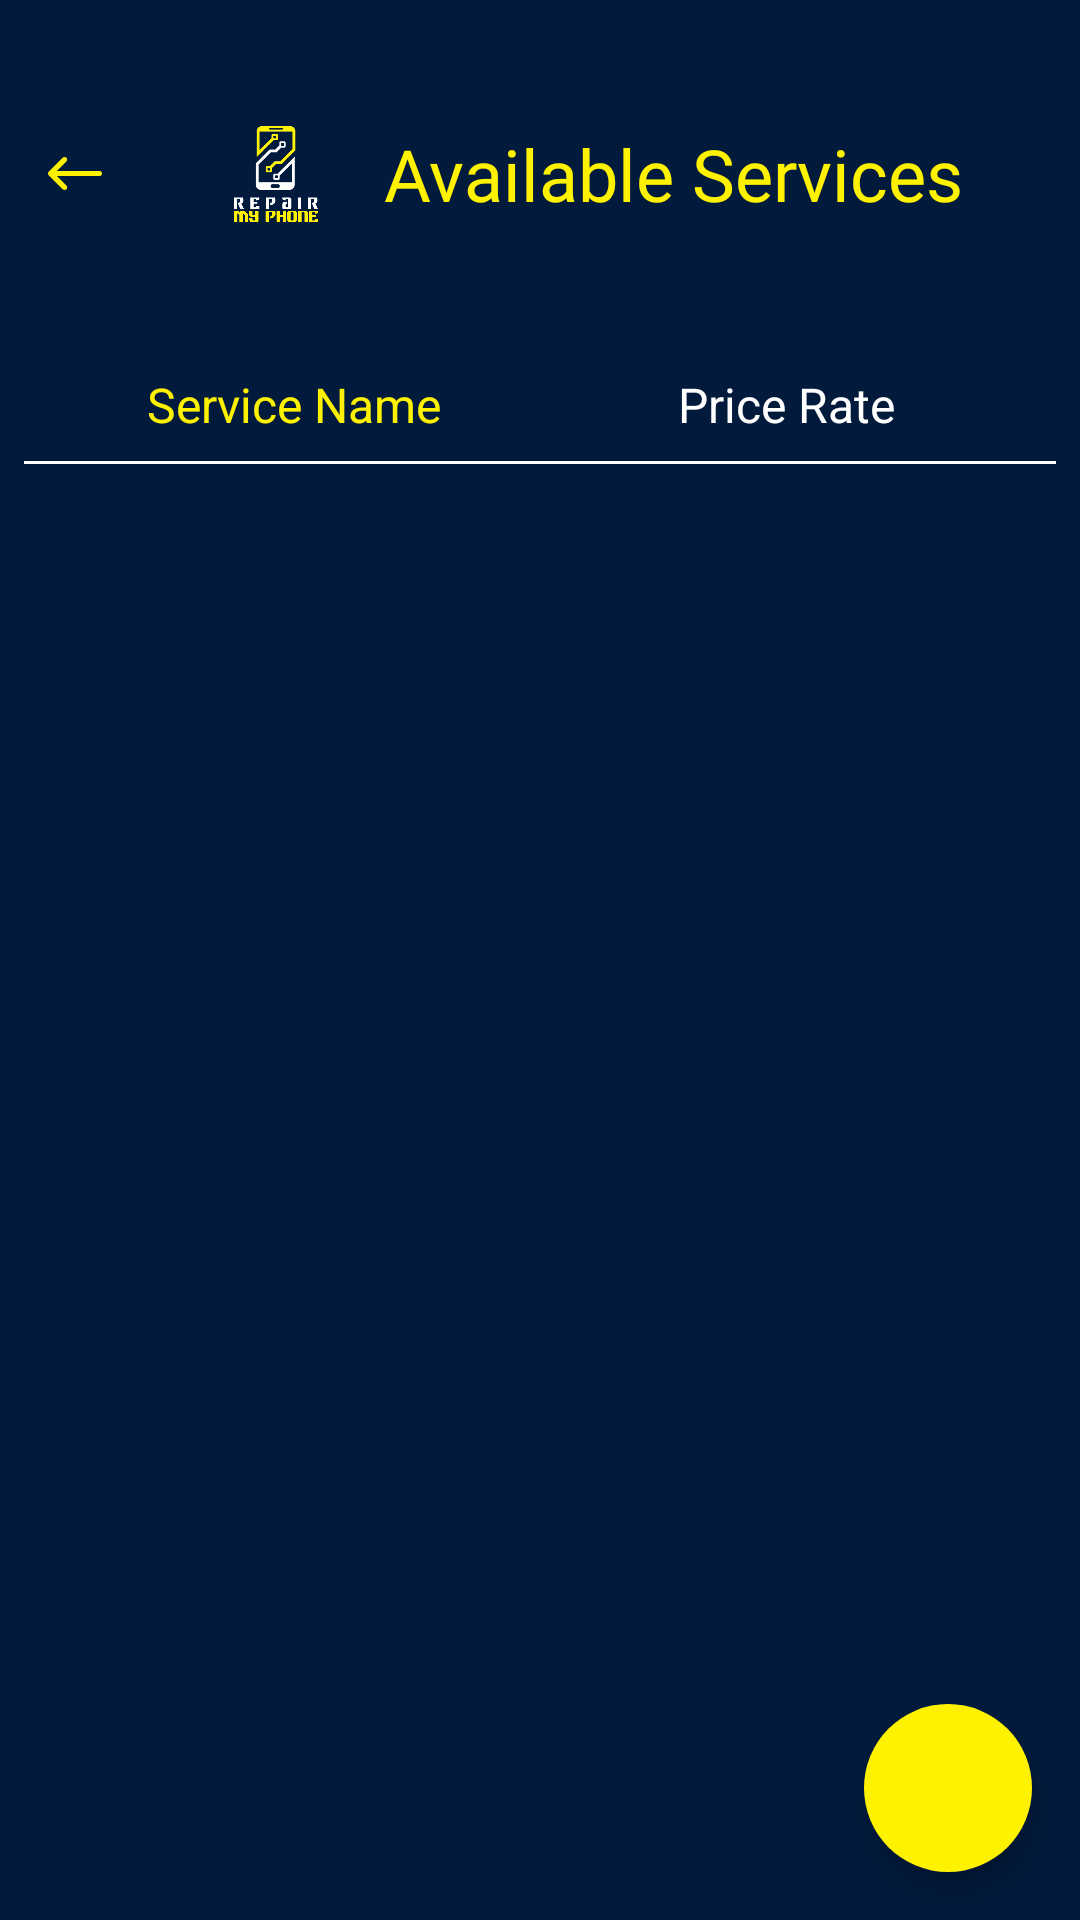

Icon click points for this 1080w x 1920h phone screenshot, format (x,y):
back: (75,173)
